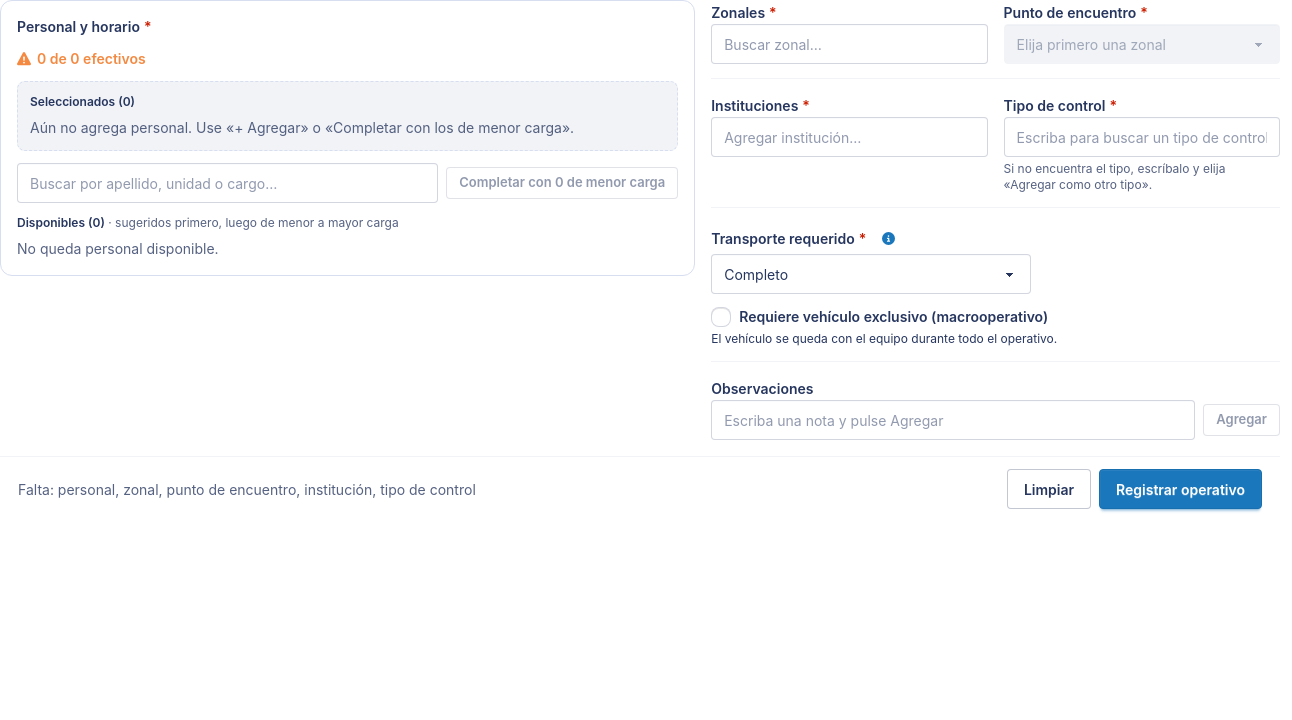
FormOperativo · el «otro tipo» va dentro del combobox › escribir filtra los tipos del formulario, sin tildes ni mayúsculas
Type "ventas" into the dropdown labelled "Tipo de control*" at (1142, 137), box [1004,117,1280,157]
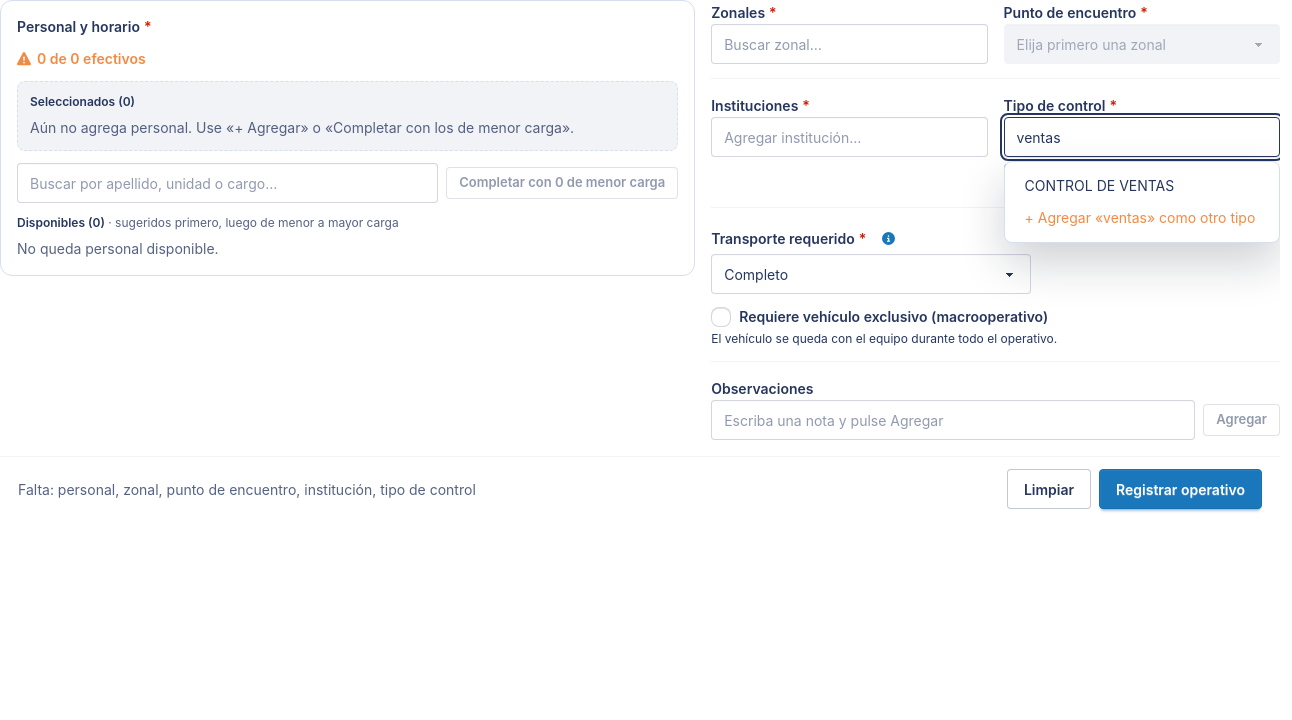
Expected: the option "CONTROL DE VENTAS" is shown, [1013,170,1271,202]
